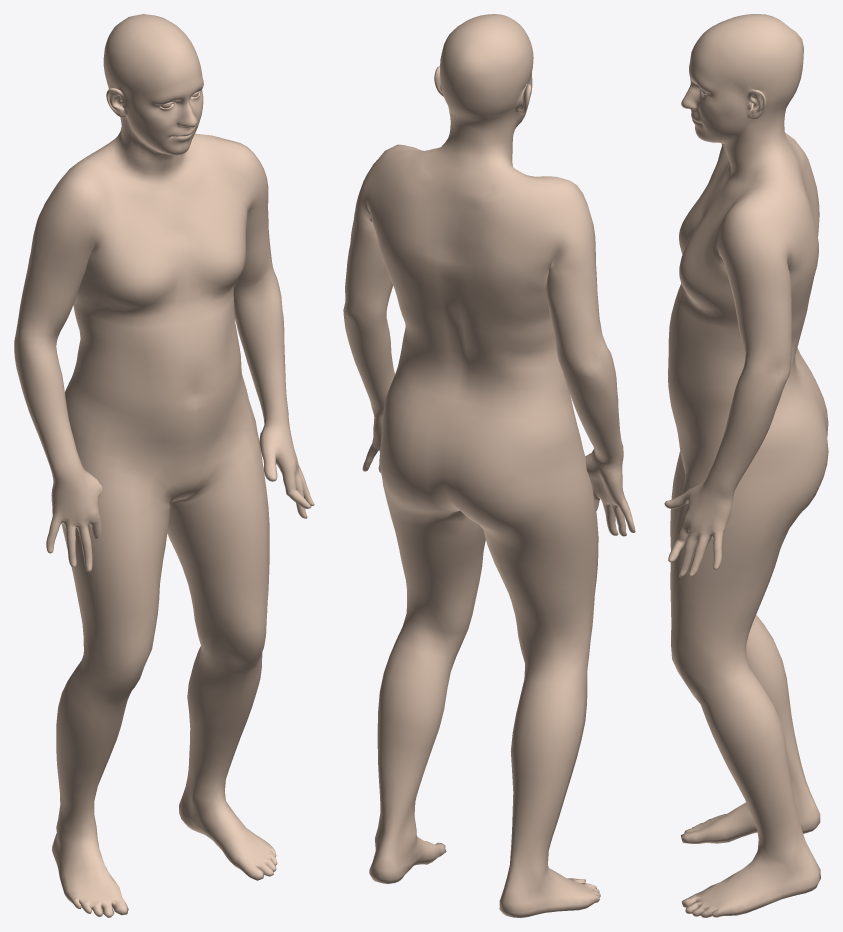
The model's file is WORD-01162.glb.
3 views of the same model, side by side, from view 1: azimuth 30°, elevation 25°; view 2: azimuth 150°, elevation 25°; view 3: azimuth 270°, elevation 25° (orthographic). The views are drawn at different scales.
Bounding box in the file's own units: 0.5543 × 1.72 × 0.299.
